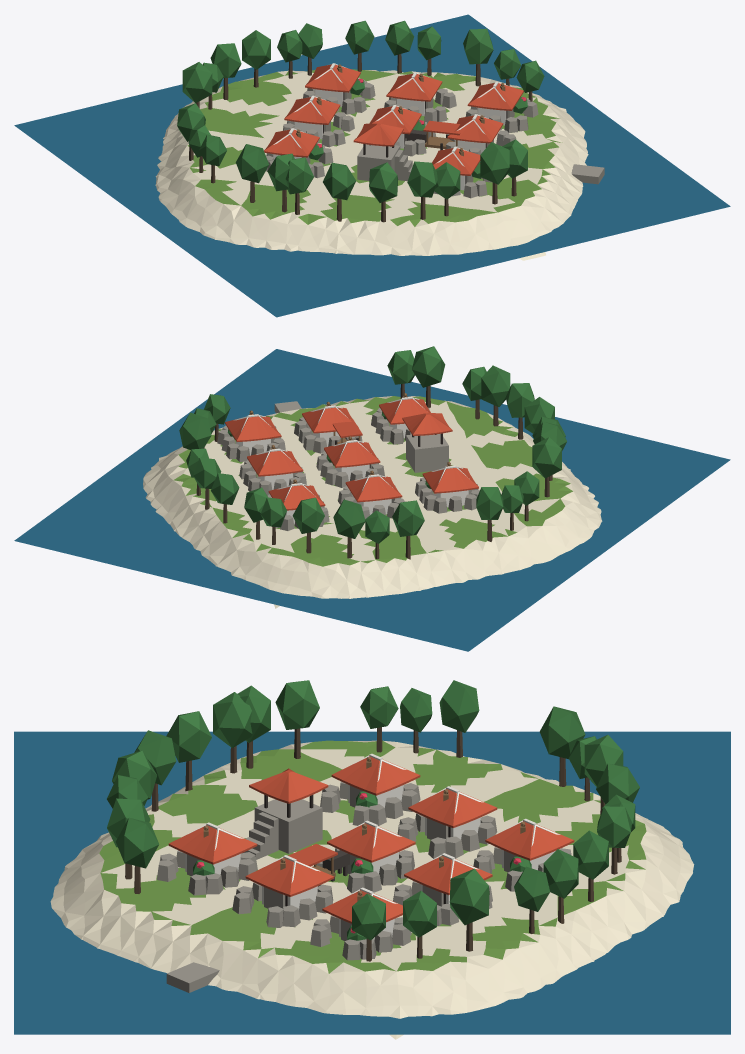
File: taketomi.glb
The picture shows the model from 3 angles, top to bottom: view 1: azimuth 30°, elevation 25°; view 2: azimuth 150°, elevation 25°; view 3: azimuth 270°, elevation 25°; orthographic projection. The views are drawn at different scales.
Visible parts, largest first — view 1: taketomi_water, taketomi_sand, taketomi_leaf, taketomi_grass, taketomi_tile, taketomi_coral, taketomi_white, taketomi_bark, taketomi_wood; view 2: taketomi_water, taketomi_sand, taketomi_leaf, taketomi_grass, taketomi_tile, taketomi_coral, taketomi_white, taketomi_bark; view 3: taketomi_water, taketomi_sand, taketomi_leaf, taketomi_grass, taketomi_coral, taketomi_tile, taketomi_white, taketomi_bark, taketomi_wood.
Part boxes in pixels (x1,y1,x2,y2): taketomi_water: [14, 14, 730, 317]; taketomi_sand: [155, 70, 588, 260]; taketomi_leaf: [177, 20, 544, 202]; taketomi_grass: [187, 69, 562, 226]; taketomi_tile: [264, 64, 523, 175]; taketomi_coral: [266, 79, 604, 198]; taketomi_white: [273, 63, 507, 190]; taketomi_bark: [189, 53, 532, 222]; taketomi_wood: [296, 64, 505, 156]; taketomi_water: [14, 349, 730, 651]; taketomi_sand: [143, 396, 602, 608]; taketomi_leaf: [179, 346, 566, 543]; taketomi_grass: [173, 396, 572, 566]; taketomi_tile: [225, 398, 478, 510]; taketomi_coral: [217, 401, 479, 530]; taketomi_white: [233, 396, 469, 524]; taketomi_bark: [196, 383, 552, 559]; taketomi_water: [14, 731, 730, 1034]; taketomi_sand: [50, 740, 694, 1039]; taketomi_leaf: [107, 680, 639, 940]; taketomi_grass: [99, 740, 646, 973]; taketomi_coral: [157, 781, 571, 992]; taketomi_tile: [168, 756, 574, 923]; taketomi_white: [185, 753, 560, 939]; taketomi_bark: [125, 727, 621, 961]; taketomi_wood: [203, 757, 525, 901].
Size of the model in its own units: 22.4 by 4.12 by 22.4.
